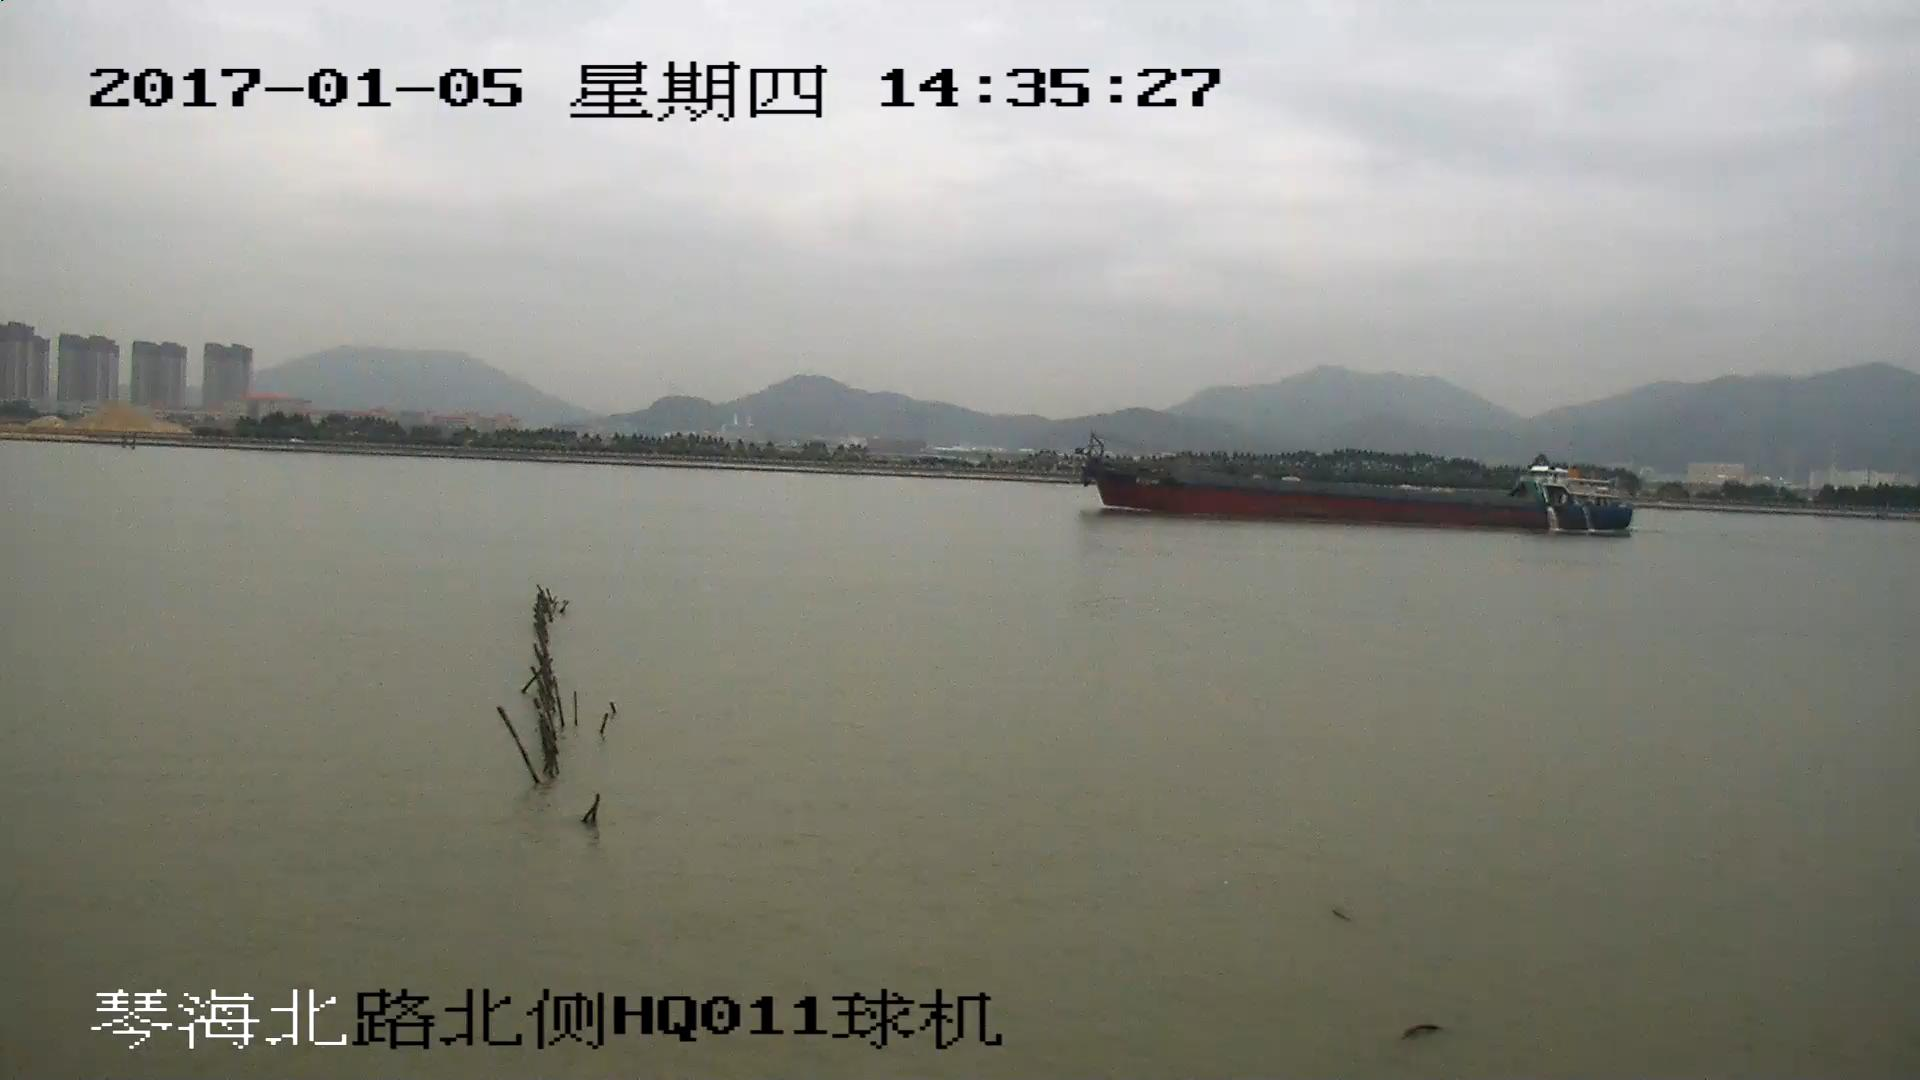bulk cargo carrier: (1072, 433, 1632, 535)
